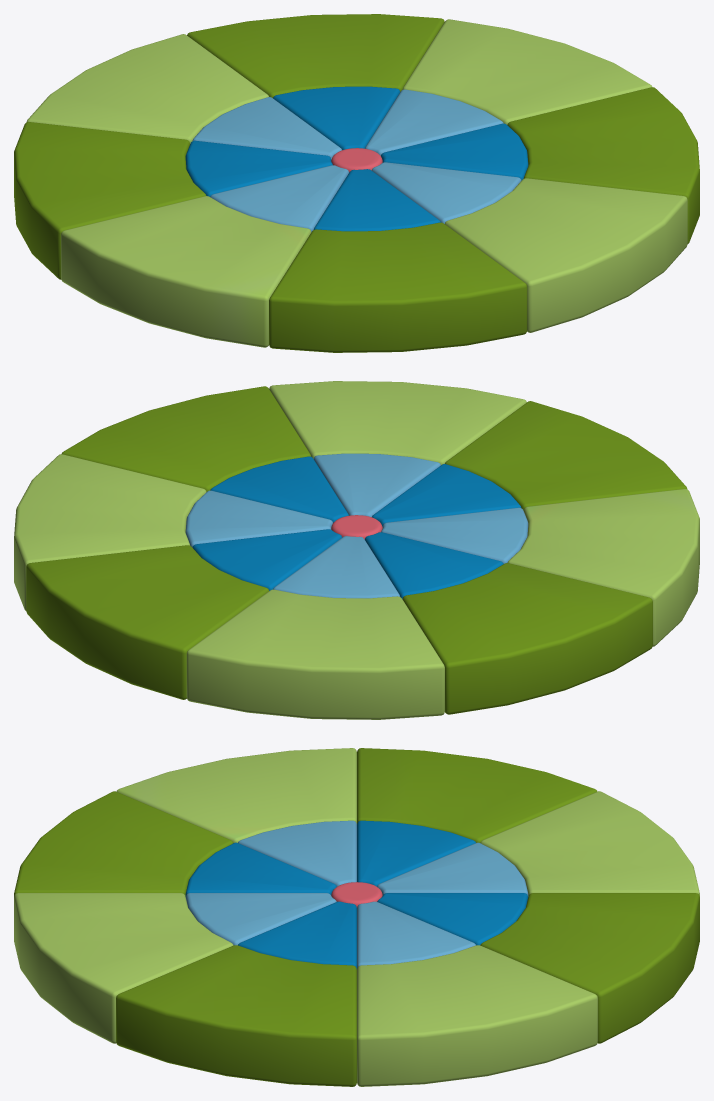
3 renders of one model, top to bottom at view 1: azimuth 30°, elevation 25°; view 2: azimuth 150°, elevation 25°; view 3: azimuth 270°, elevation 25°, orthographic.
Parts seen in each view (by area): view 1: circle7, circle13, circle9, circle10, circle11, circle6, circle12, circle8, circle4, circle16, circle2, circle5 (+5 smaller); view 2: circle8, circle10, circle6, circle13, circle12, circle9, circle11, circle7, circle16, circle4, circle5, circle2 (+5 smaller); view 3: circle11, circle12, circle9, circle6, circle10, circle13, circle7, circle8, circle16, circle4, circle5, circle2 (+5 smaller).
Part boxes in pixels (left/top/right/bottom): circle7: left=269, top=222, right=527, bottom=352; circle13: left=61, top=196, right=311, bottom=347; circle9: left=445, top=178, right=687, bottom=332; circle10: left=14, top=122, right=206, bottom=279; circle11: left=507, top=87, right=699, bottom=243; circle6: left=187, top=14, right=444, bottom=97; circle12: left=402, top=19, right=652, bottom=124; circle8: left=26, top=34, right=268, bottom=143; circle4: left=273, top=86, right=399, bottom=149; circle16: left=371, top=162, right=521, bottom=223; circle2: left=210, top=165, right=348, bottom=231; circle5: left=185, top=140, right=332, bottom=196; circle8: left=186, top=589, right=444, bottom=719; circle10: left=402, top=563, right=652, bottom=714; circle6: left=26, top=545, right=268, bottom=699; circle13: left=507, top=489, right=699, bottom=646; circle12: left=14, top=454, right=206, bottom=610; circle9: left=269, top=381, right=526, bottom=464; circle11: left=61, top=386, right=311, bottom=491; circle7: left=445, top=401, right=687, bottom=510; circle16: left=314, top=453, right=440, bottom=516; circle4: left=192, top=529, right=342, bottom=590; circle5: left=365, top=532, right=503, bottom=598; circle2: left=381, top=507, right=528, bottom=563; circle11: left=116, top=945, right=356, bottom=1086; circle12: left=357, top=945, right=597, bottom=1086; circle9: left=14, top=893, right=233, bottom=1043; circle6: left=480, top=893, right=699, bottom=1043; circle10: left=357, top=748, right=597, bottom=842; circle13: left=116, top=748, right=356, bottom=842; circle7: left=14, top=791, right=233, bottom=896; circle8: left=480, top=791, right=699, bottom=896; circle16: left=185, top=893, right=336, bottom=945; circle4: left=377, top=893, right=528, bottom=945; circle5: left=357, top=820, right=475, bottom=886; circle2: left=238, top=820, right=356, bottom=886.
Size of the model in its own units: 1199 by 100 by 1199.
Materials: 1 (1 with a texture image).
